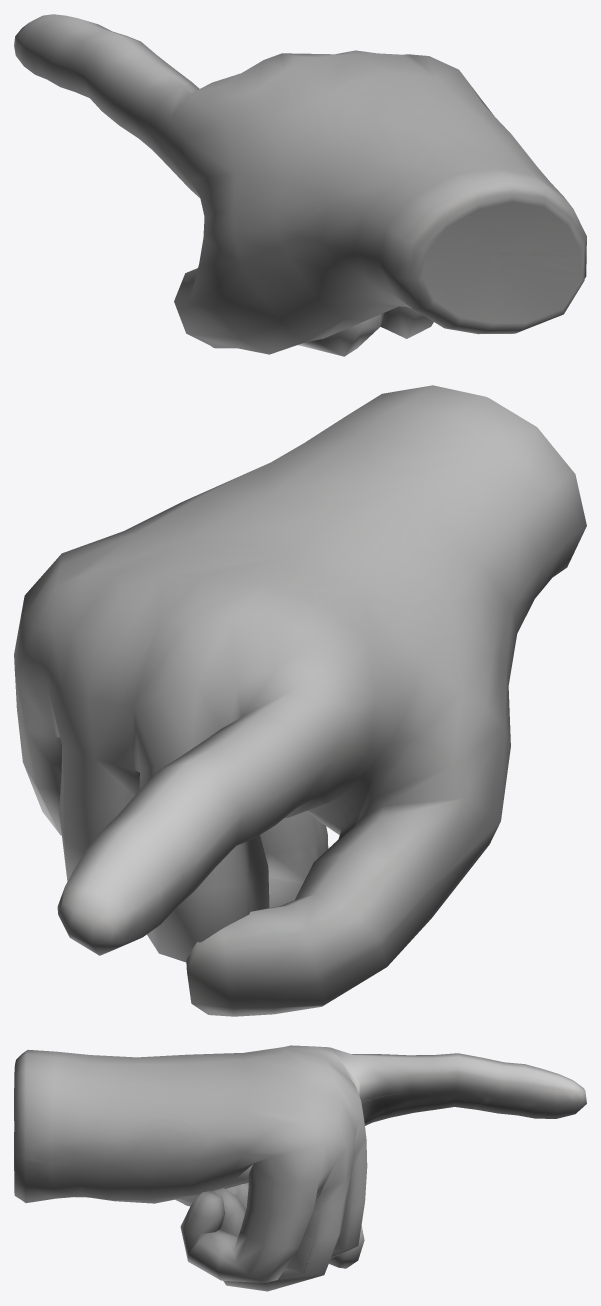
The model's file is GenericHandRight.glb.
The picture shows the model from 3 angles, top to bottom: view 1: azimuth 30°, elevation 25°; view 2: azimuth 150°, elevation 25°; view 3: azimuth 270°, elevation 25°; orthographic projection. The views are drawn at different scales.
Parts seen in each view (by area): view 1: HAND; view 2: HAND; view 3: HAND.
Boxes of the visible parts, x1,y1,x2,y2 form: HAND: (14, 14, 586, 356); HAND: (14, 385, 586, 1016); HAND: (14, 1045, 586, 1291).
Bounding box in the file's own units: 0.1333 × 0.1206 × 0.2861.
1 material, 1 textured.
